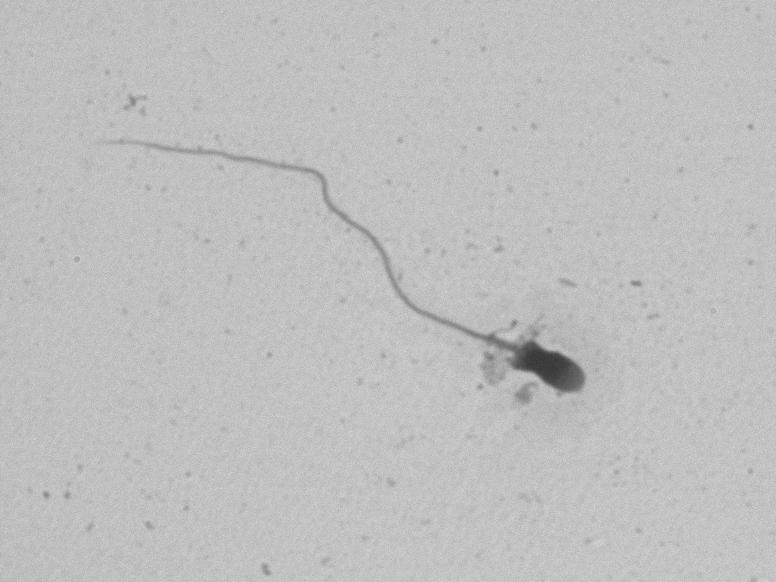Abnormal: (73, 50, 621, 432)
